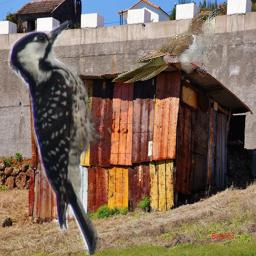Cuckoo: (111, 7, 224, 83)
Woodpecker: (7, 18, 133, 255)
